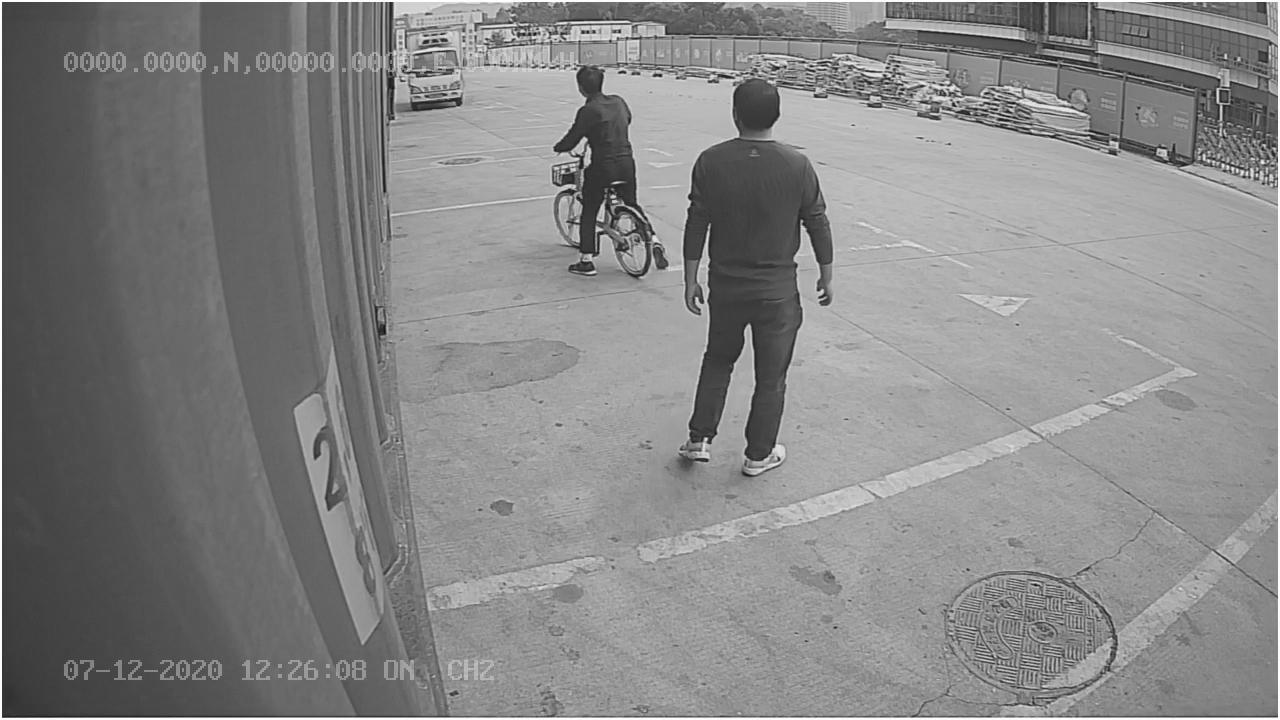person: (670, 73, 840, 478)
